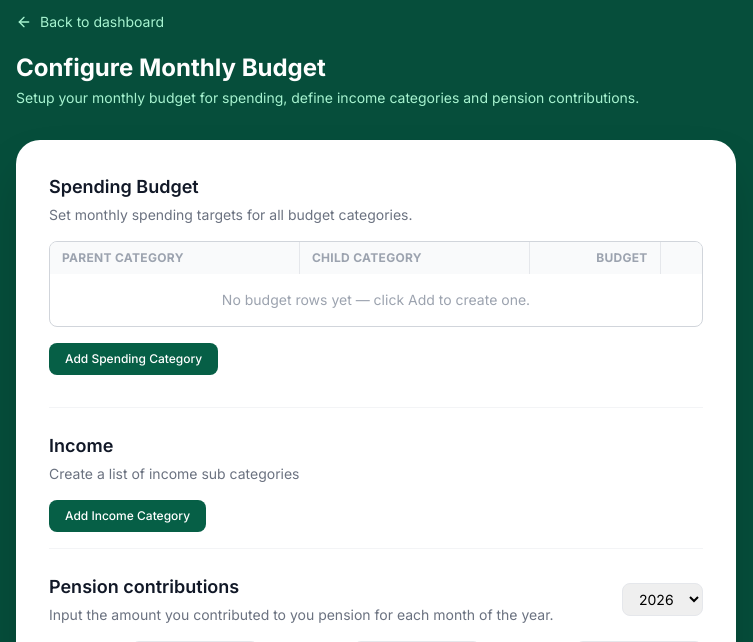
Test case: BudgetSetupPage › adding an income category posts to /api/categories with the income parentId
Expected: the heading "Income" is shown, [49,435,113,456]
Click the button "Add Income Category" at (128, 516), box [49,500,206,532]
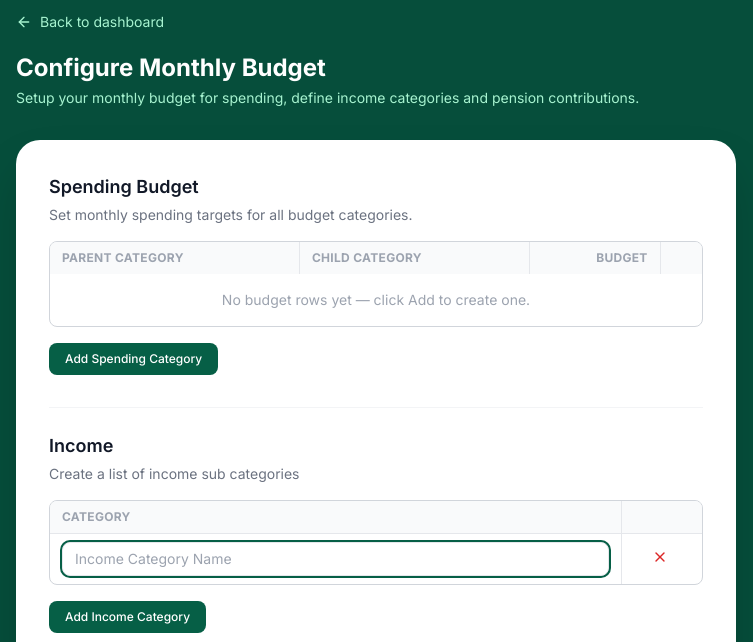
Type "Bonus" into the field with placeholder "Income Category Name" at (336, 559), box [62,542,609,576]
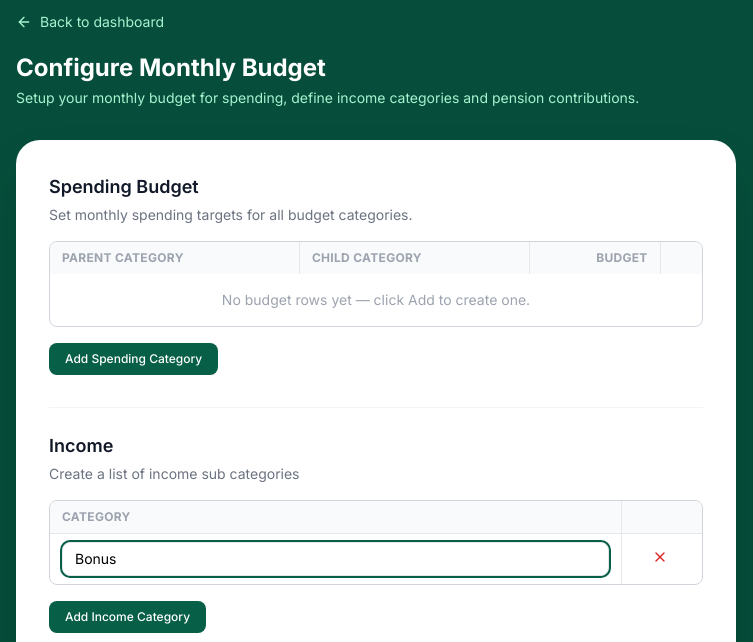
Press Enter in the field with placeholder "Income Category Name", box [62,542,609,576]
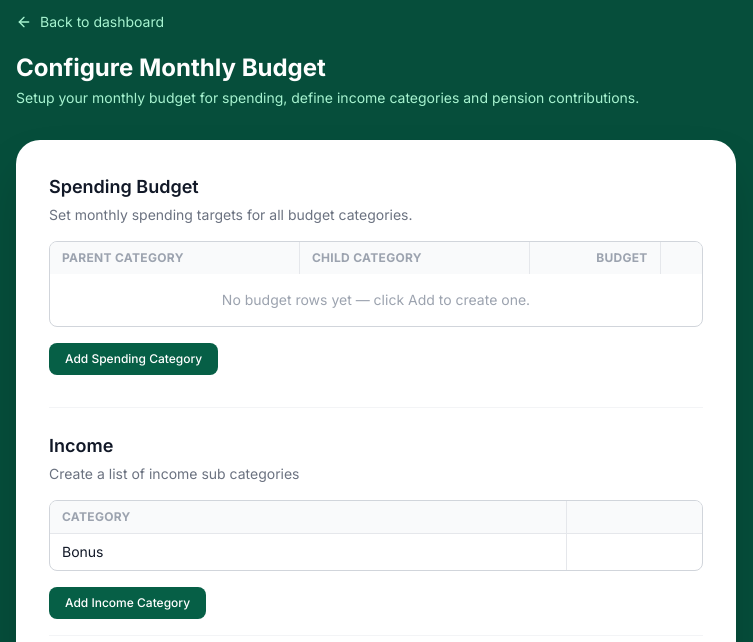
Now the text "Bonus" is shown, box [50,534,566,570]
